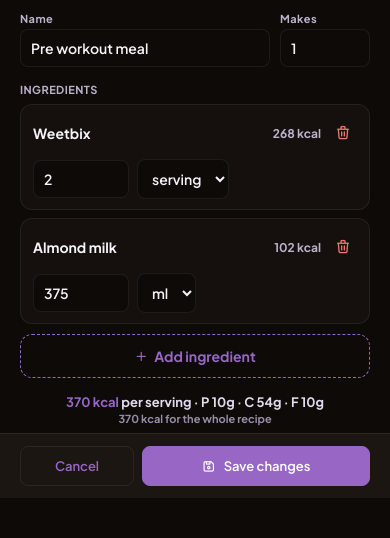
Test: RecipeEditor › shows an error and stays open if saving fails
Click the button "Save changes" at (256, 466), box [142,446,370,486]
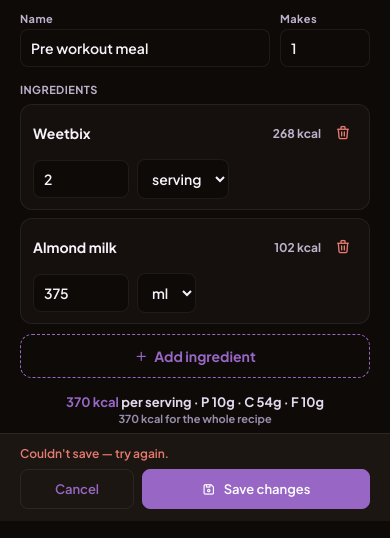
Expected: the button "Save changes" is enabled, [142,469,370,509]
Result: the message shows "Couldn't save" at [20,446,169,461]
